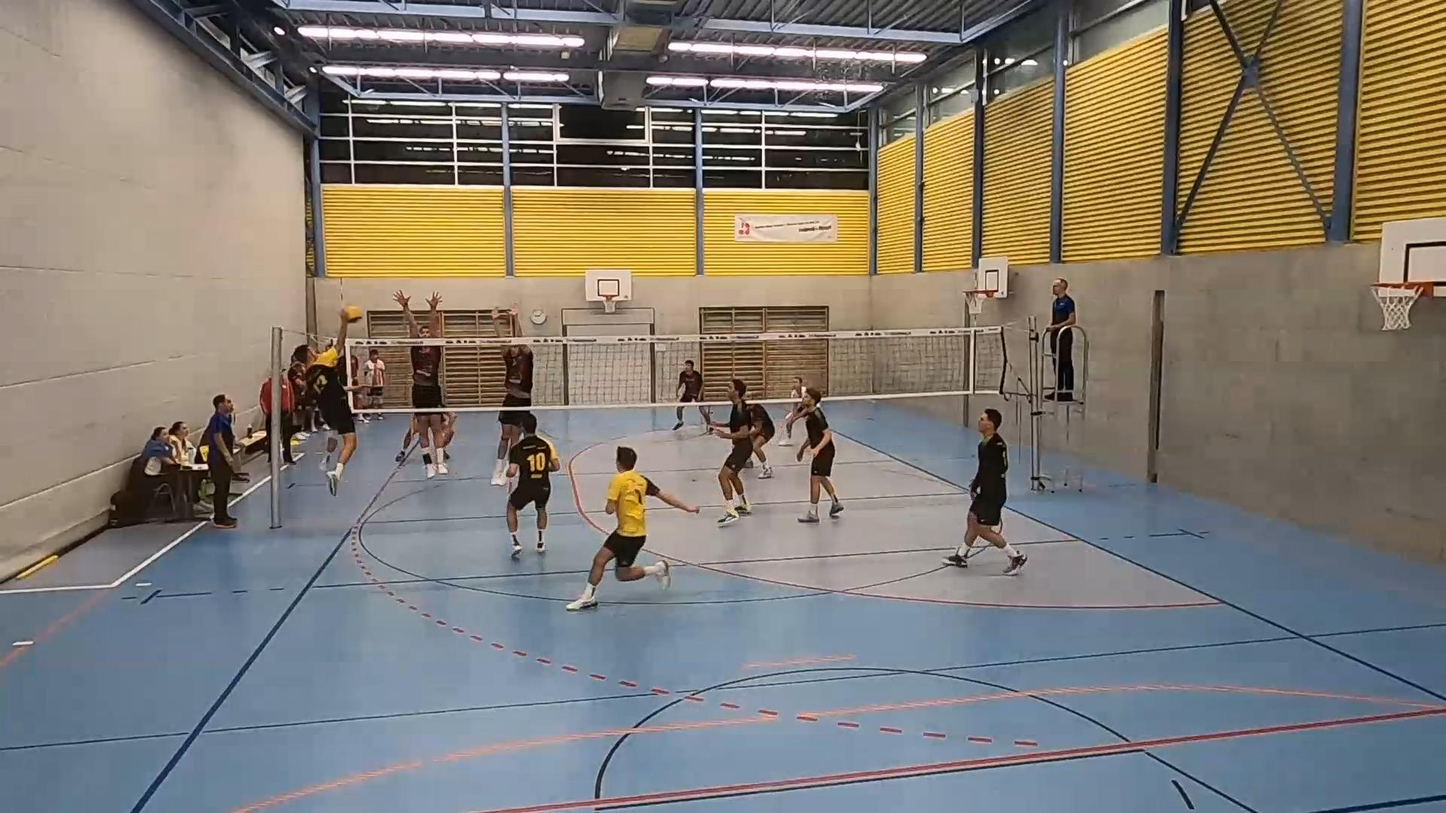Attack: (288, 321, 375, 479)
Block: (394, 287, 453, 483), (490, 300, 532, 491)
Player: (566, 446, 698, 611), (943, 408, 1027, 574), (506, 413, 560, 556), (710, 379, 753, 525), (797, 388, 843, 522), (673, 361, 703, 430), (778, 376, 806, 446), (749, 403, 775, 478)
ball: (340, 306, 364, 323)
